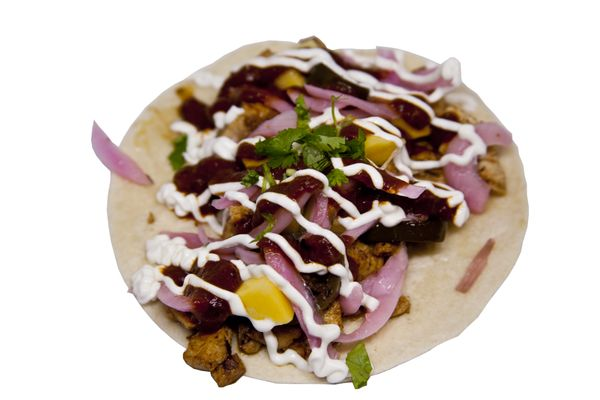pizza: (454, 237, 495, 293)
sandwich: (92, 36, 535, 389)
